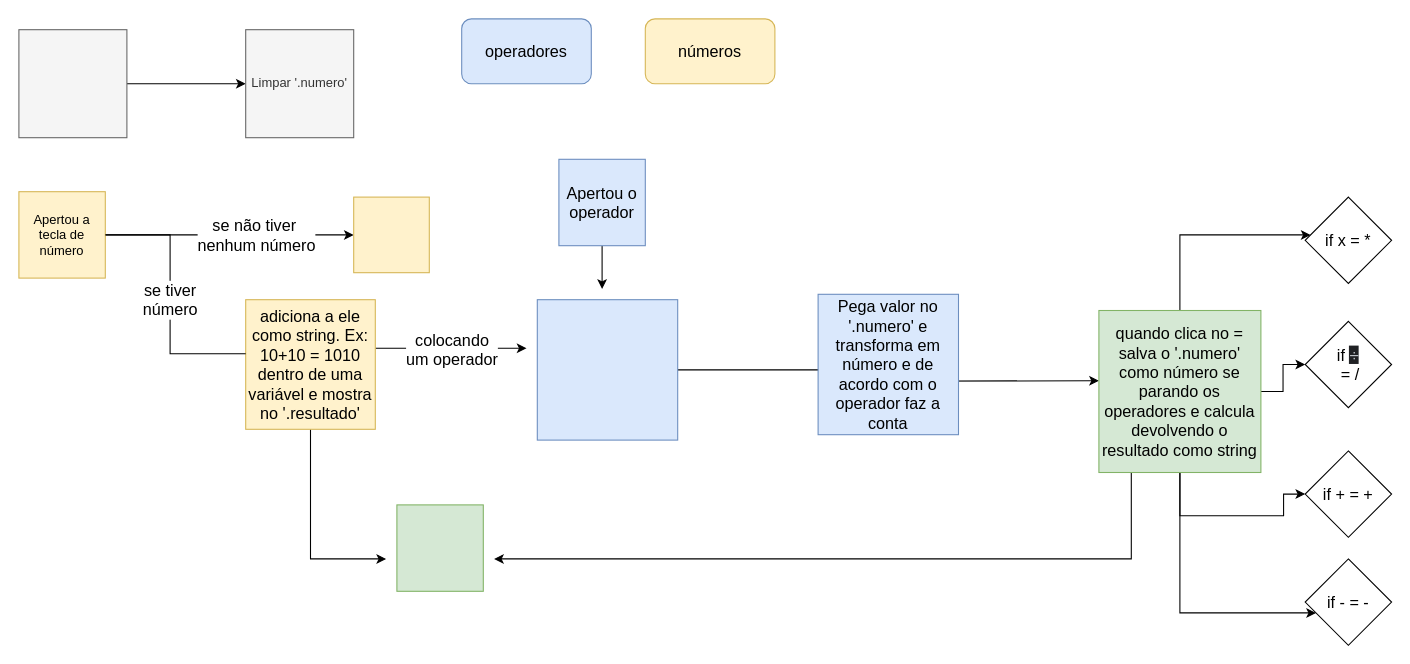
This 1410x664 diagram has some shape labels left out. The box of each missing label's shape, as (x1, y1, x2, y2) in pixels:
adiciona o operador na tela como string: (536, 299, 678, 440)
Limpa e coloca o número: (353, 196, 429, 273)
mostra resultado exibido em string: (396, 504, 483, 591)
Resetar: (18, 29, 127, 138)
